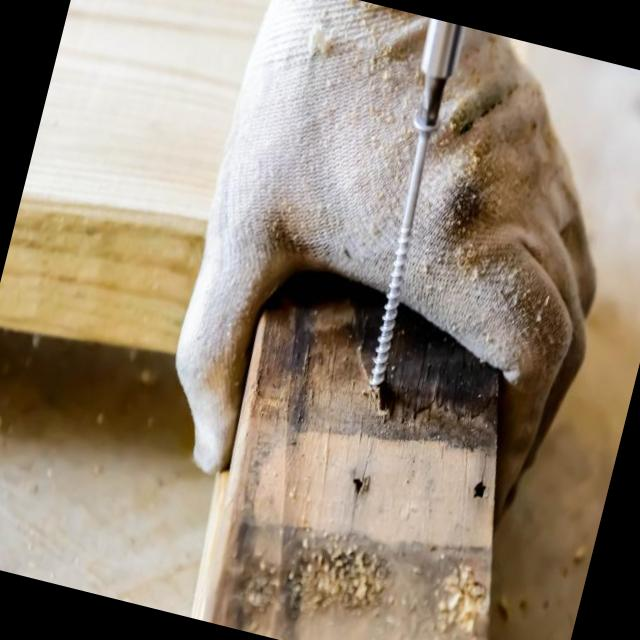Gloves: (146, 0, 640, 562)
